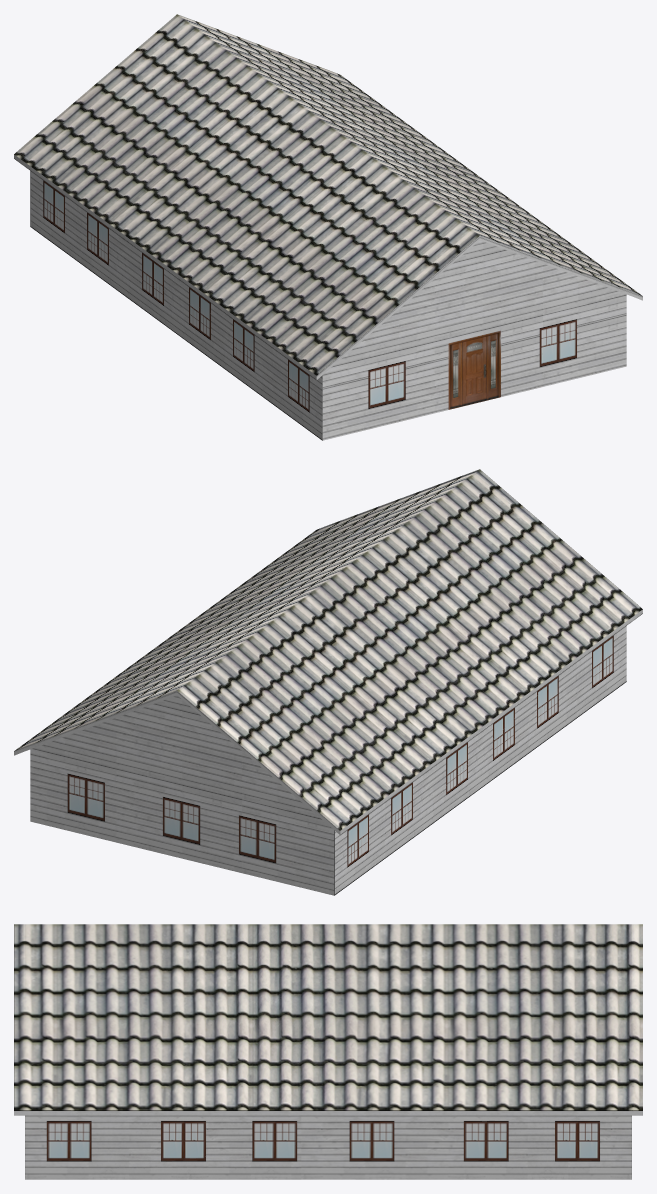
The model's file is house.DAE.
3 renders of one model, top to bottom at view 1: azimuth 30°, elevation 25°; view 2: azimuth 150°, elevation 25°; view 3: azimuth 270°, elevation 25°, orthographic. The views are drawn at different scales.
Visible parts, largest first — view 1: Box003; view 2: Box003; view 3: Box003.
Part boxes in pixels (x1,y1,x2,y2): Box003: (14,14,642,440); Box003: (14,469,642,895); Box003: (14,924,642,1179).
Bounding box in the file's own units: 549 × 882 × 276.
